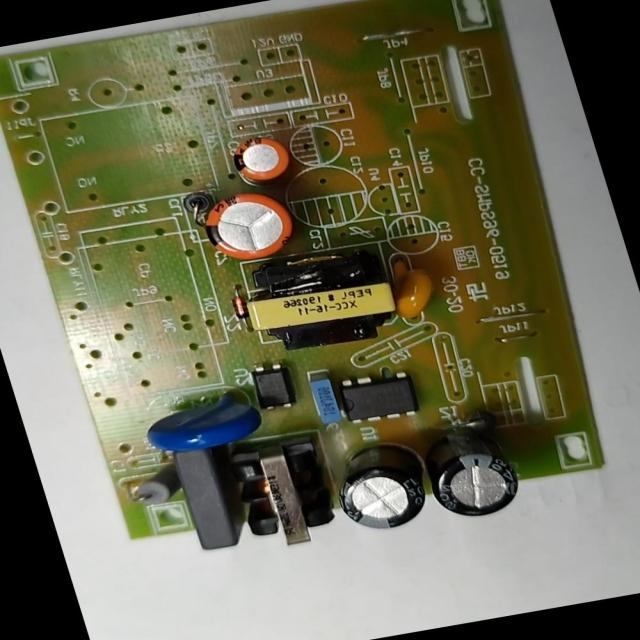Cap1: (195, 183, 301, 267)
Cap2: (226, 132, 292, 186)
Cap3: (323, 437, 437, 537)
Cap4: (418, 424, 526, 524)
MOSFET: (332, 365, 424, 428)
Mov: (136, 386, 268, 457)
Resistor: (124, 463, 187, 512)
Transformer: (233, 243, 409, 358), (218, 438, 343, 554)
